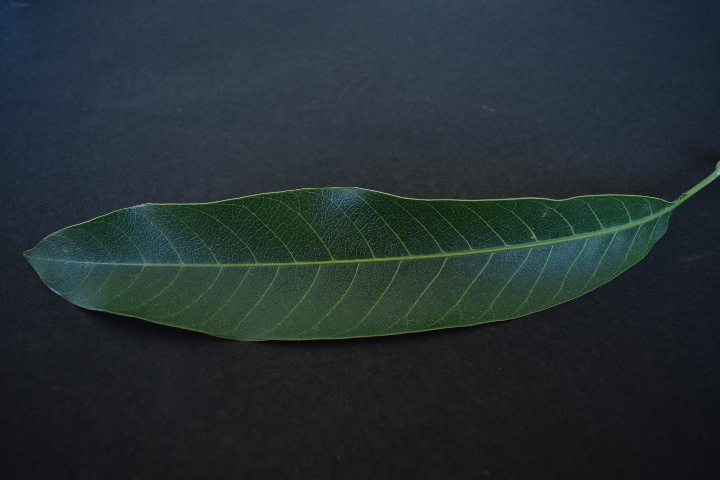healthy: (31, 177, 679, 344)
